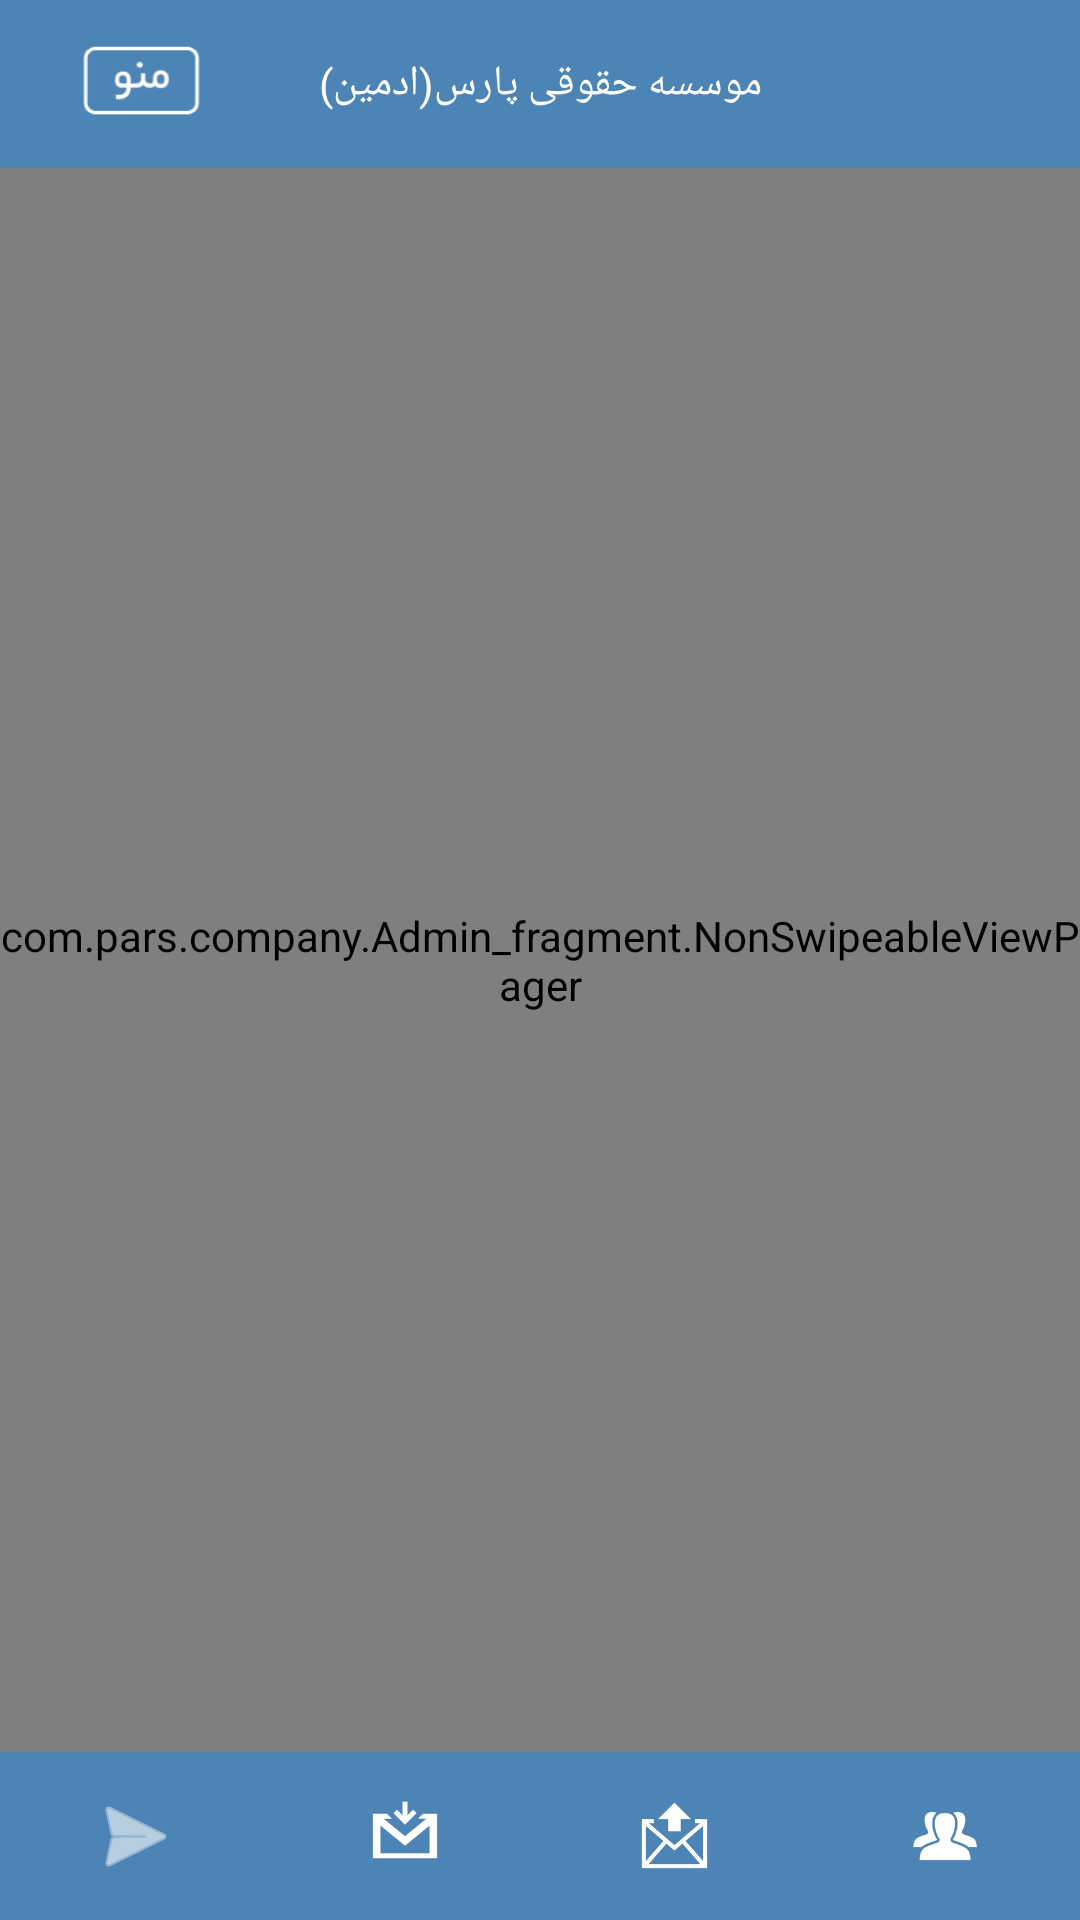

Icons on this 1080px x 1920px Android screen, each with the point to tap as (x=x, y=y):
receive: (x=405, y=1830)
send: (x=674, y=1836), (x=135, y=1836)
user: (x=945, y=1836)
